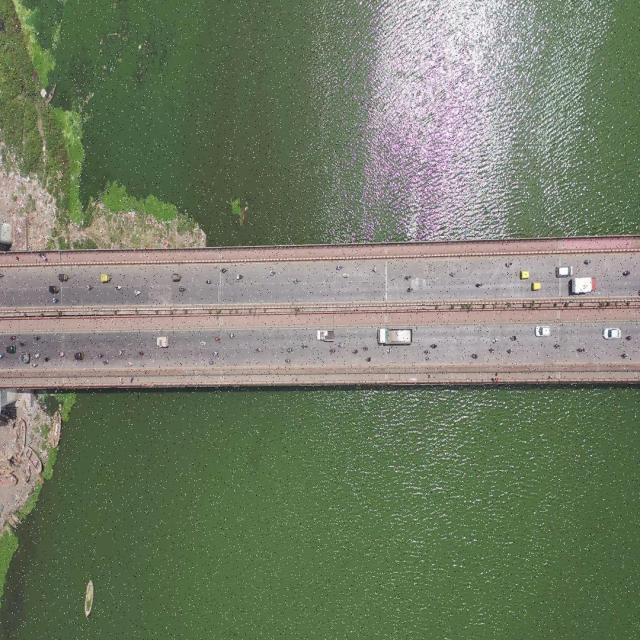3W: (99, 272, 114, 284), (519, 268, 531, 282), (19, 352, 31, 366), (47, 284, 61, 294), (57, 272, 69, 283), (5, 344, 16, 355), (531, 280, 542, 291), (74, 352, 84, 360), (173, 274, 183, 281)
Cars: (601, 324, 622, 340), (554, 264, 574, 277), (534, 324, 552, 337)
M2W: (509, 330, 519, 343), (177, 282, 187, 294), (491, 335, 501, 346), (406, 286, 415, 298), (132, 287, 142, 297), (50, 294, 60, 304), (384, 348, 394, 358), (333, 262, 344, 271), (117, 346, 125, 358), (18, 340, 28, 349), (137, 348, 146, 358), (210, 347, 219, 357), (448, 269, 457, 279), (505, 346, 514, 356), (553, 342, 563, 351), (577, 344, 586, 354), (622, 268, 631, 278), (220, 266, 229, 275), (268, 268, 277, 277), (286, 345, 295, 354), (487, 345, 496, 354), (620, 352, 629, 361), (86, 282, 94, 292), (283, 357, 291, 367), (336, 340, 344, 350), (421, 348, 431, 356), (236, 272, 245, 280), (254, 345, 262, 354), (363, 343, 371, 352), (430, 341, 438, 350), (503, 261, 512, 269), (32, 362, 40, 371), (97, 349, 104, 359), (199, 338, 206, 348), (423, 355, 433, 362), (473, 281, 483, 288), (625, 335, 635, 342), (205, 278, 213, 286), (342, 272, 350, 280), (59, 350, 66, 359), (102, 357, 109, 366), (127, 360, 134, 369), (227, 332, 236, 339), (329, 345, 336, 354), (32, 336, 42, 342), (352, 347, 358, 357), (470, 353, 480, 359), (582, 260, 592, 266), (43, 354, 50, 362), (214, 335, 222, 342), (208, 359, 216, 366), (294, 278, 301, 286), (373, 266, 380, 274), (34, 352, 40, 361), (366, 355, 372, 364), (115, 284, 122, 291), (405, 275, 412, 282), (302, 342, 308, 349), (10, 334, 16, 340)
Truck: (375, 327, 414, 346), (568, 276, 596, 298), (151, 331, 171, 353), (316, 327, 335, 343)
